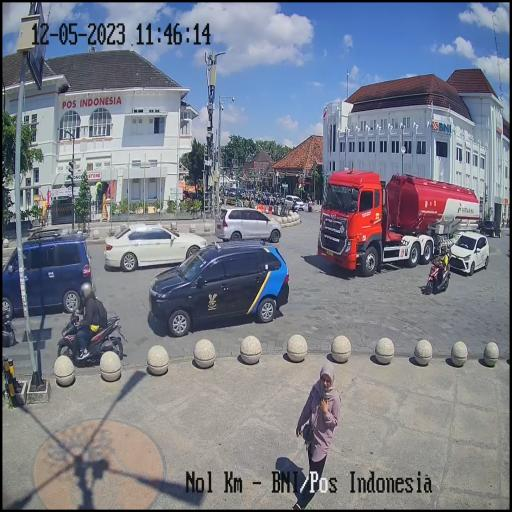mobil: (316, 168, 480, 276), (148, 237, 290, 337), (1, 235, 90, 310), (105, 219, 209, 269), (214, 206, 281, 242), (448, 230, 490, 278)
motor: (54, 294, 126, 368), (426, 256, 448, 298)
